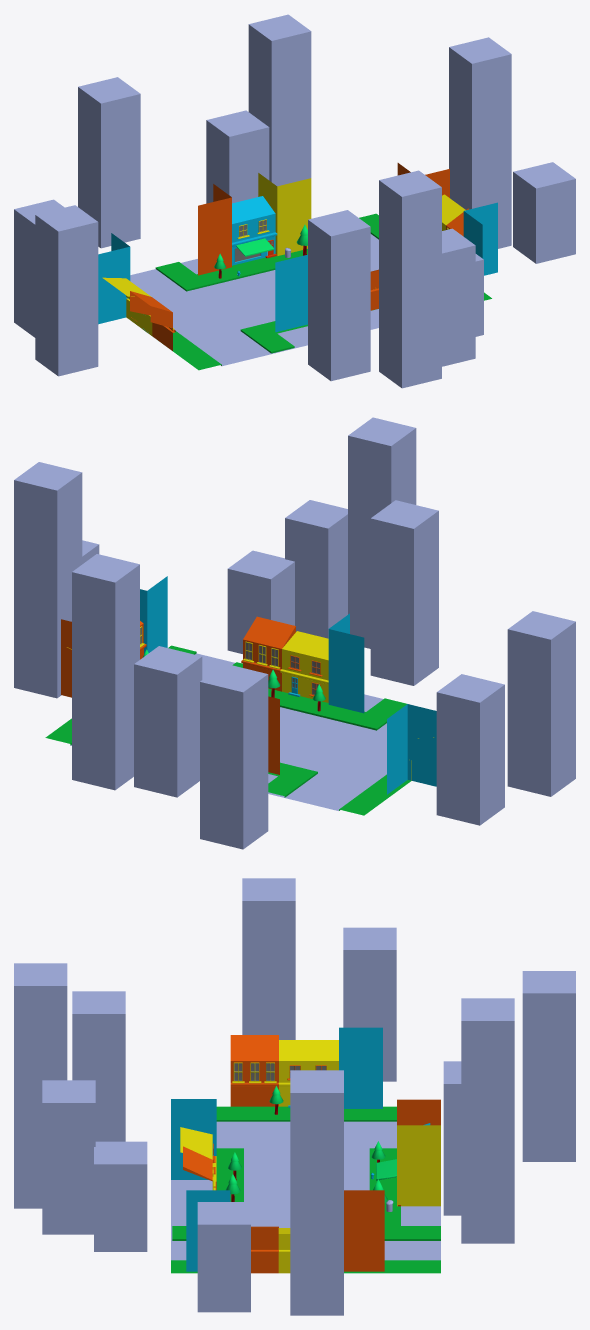
Rendered from Street.fbx.
3 renders of one model, top to bottom at view 1: azimuth 30°, elevation 25°; view 2: azimuth 150°, elevation 25°; view 3: azimuth 270°, elevation 25°, orthographic. The views are drawn at different scales.
Visible parts, largest first — view 1: pCube10, pCube15, pCube17, pCube7, pCube12, pCube13, road, pCube14, pCube11, pCube8, pCube16, building3 (+12 smaller); view 2: pCube13, pCube15, pCube12, pCube7, pCube17, pCube16, pCube11, pCube10, road, pCube8, pCube9, building11 (+10 smaller); view 3: pCube13, pCube15, road, pCube12, pCube10, pCube17, pCube8, pCube7, pCube16, pCube14, pCube9, building3 (+17 smaller).
Boxes of the visible parts, x1=… form: pCube10: x1=379, y1=170, x2=441, y2=388; pCube15: x1=449, y1=37, x2=511, y2=248; pCube17: x1=35, y1=205, x2=98, y2=376; pCube7: x1=308, y1=210, x2=370, y2=381; pCube12: x1=78, y1=77, x2=140, y2=248; pCube13: x1=248, y1=14, x2=311, y2=186; road: x1=130, y1=234, x2=378, y2=366; pCube14: x1=513, y1=162, x2=575, y2=263; pCube11: x1=206, y1=110, x2=269, y2=203; pCube8: x1=442, y1=228, x2=475, y2=366; pCube16: x1=14, y1=199, x2=64, y2=337; building3: x1=258, y1=173, x2=311, y2=256; pCube13: x1=72, y1=554, x2=139, y2=790; pCube15: x1=14, y1=462, x2=82, y2=698; pCube12: x1=200, y1=663, x2=268, y2=849; pCube7: x1=370, y1=500, x2=438, y2=685; pCube17: x1=507, y1=611, x2=575, y2=796; pCube16: x1=436, y1=674, x2=504, y2=825; pCube11: x1=134, y1=646, x2=202, y2=797; pCube10: x1=348, y1=417, x2=416, y2=648; road: x1=70, y1=653, x2=386, y2=810; pCube8: x1=285, y1=500, x2=347, y2=638; pCube9: x1=227, y1=550, x2=294, y2=653; building11: x1=387, y1=704, x2=436, y2=794; pCube13: x1=461, y1=998, x2=514, y2=1243; pCube15: x1=290, y1=1070, x2=343, y2=1315; road: x1=171, y1=1121, x2=440, y2=1260; pCube12: x1=522, y1=971, x2=575, y2=1161; pCube10: x1=14, y1=963, x2=67, y2=1208; pCube17: x1=242, y1=878, x2=295, y2=1039; pCube8: x1=42, y1=1080, x2=95, y2=1234; pCube7: x1=72, y1=991, x2=125, y2=1141; pCube16: x1=343, y1=927, x2=396, y2=1081; pCube14: x1=197, y1=1202, x2=250, y2=1312; pCube9: x1=94, y1=1141, x2=147, y2=1251; building3: x1=397, y1=1125, x2=440, y2=1206.
Size of the model in its own units: 23766 by 8726 by 19965.
